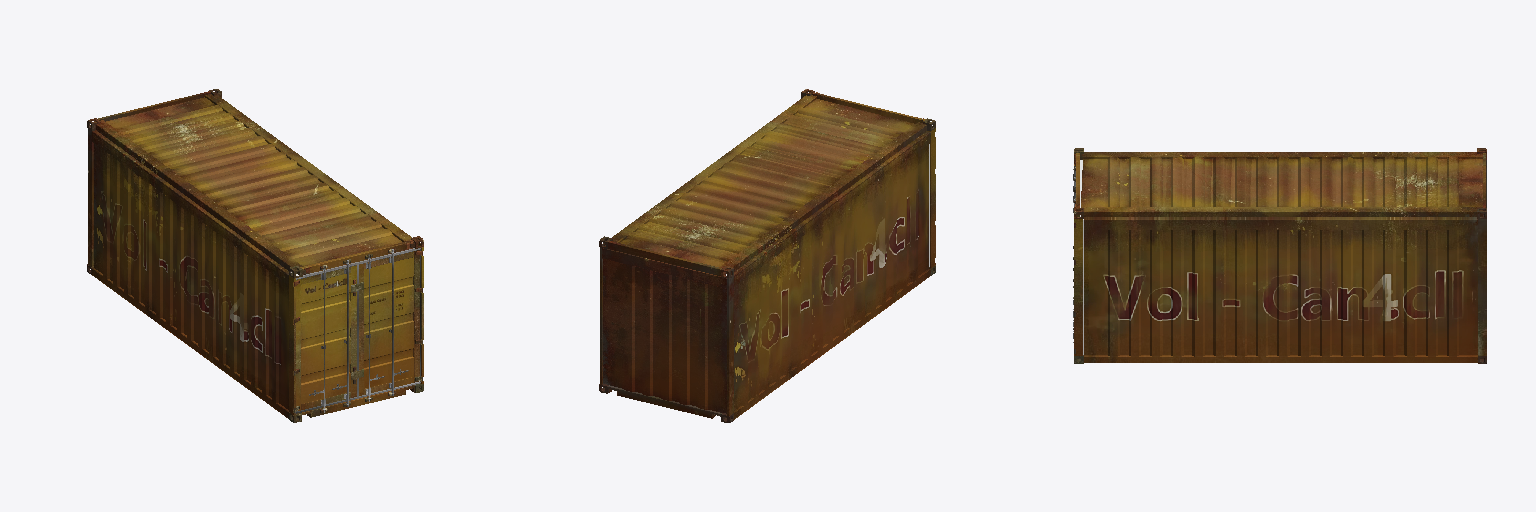
3 renders of one model, left to right at view 1: azimuth 30°, elevation 25°; view 2: azimuth 150°, elevation 25°; view 3: azimuth 270°, elevation 25°, orthographic.
Parts seen in each view (by area): view 1: container; view 2: container; view 3: container.
Boxes of the visible parts, <box> form: container: <box>87,89,423,422</box>; container: <box>599,89,935,422</box>; container: <box>1073,148,1486,363</box>.
Size of the model in its own units: 216 by 240 by 595.
Materials: 1 (1 with a texture image).